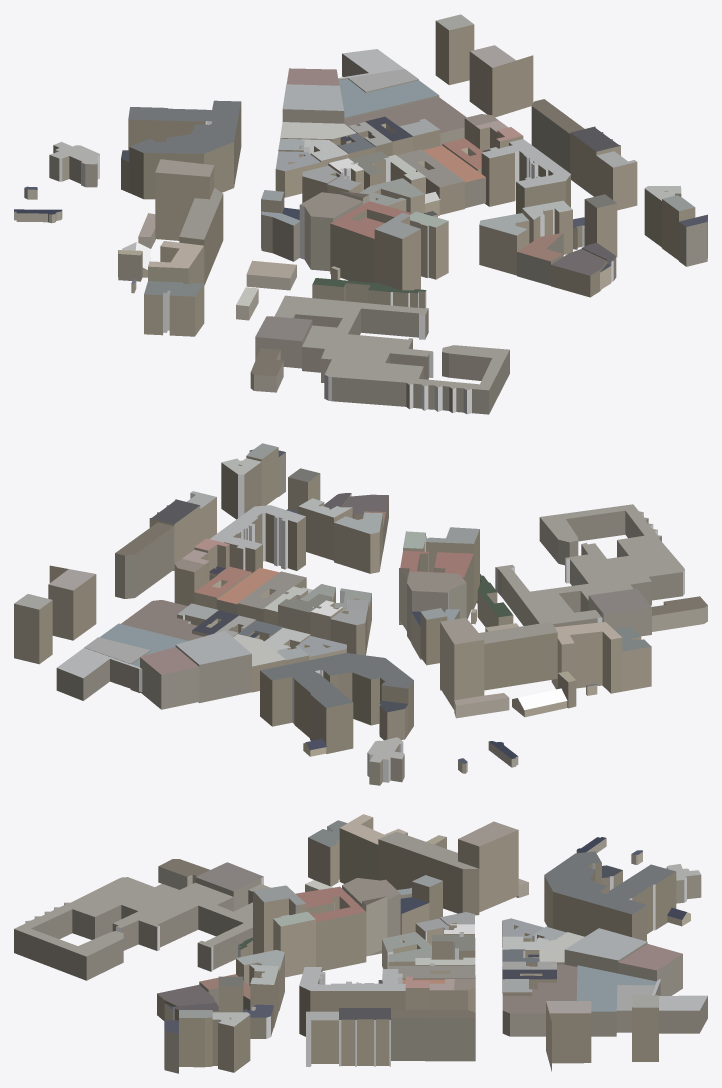
3 views of the same model, one above another, from view 1: azimuth 30°, elevation 25°; view 2: azimuth 150°, elevation 25°; view 3: azimuth 270°, elevation 25° (orthographic).
Visible parts, largest first — view 1: tuile; view 2: tuile; view 3: tuile.
Boxes of the visible parts, left/top/right/bottom form: tuile: left=14, top=14, right=707, bottom=414; tuile: left=14, top=443, right=707, bottom=785; tuile: left=14, top=814, right=707, bottom=1073.
Size of the model in its own units: 274 by 47.35 by 334.
